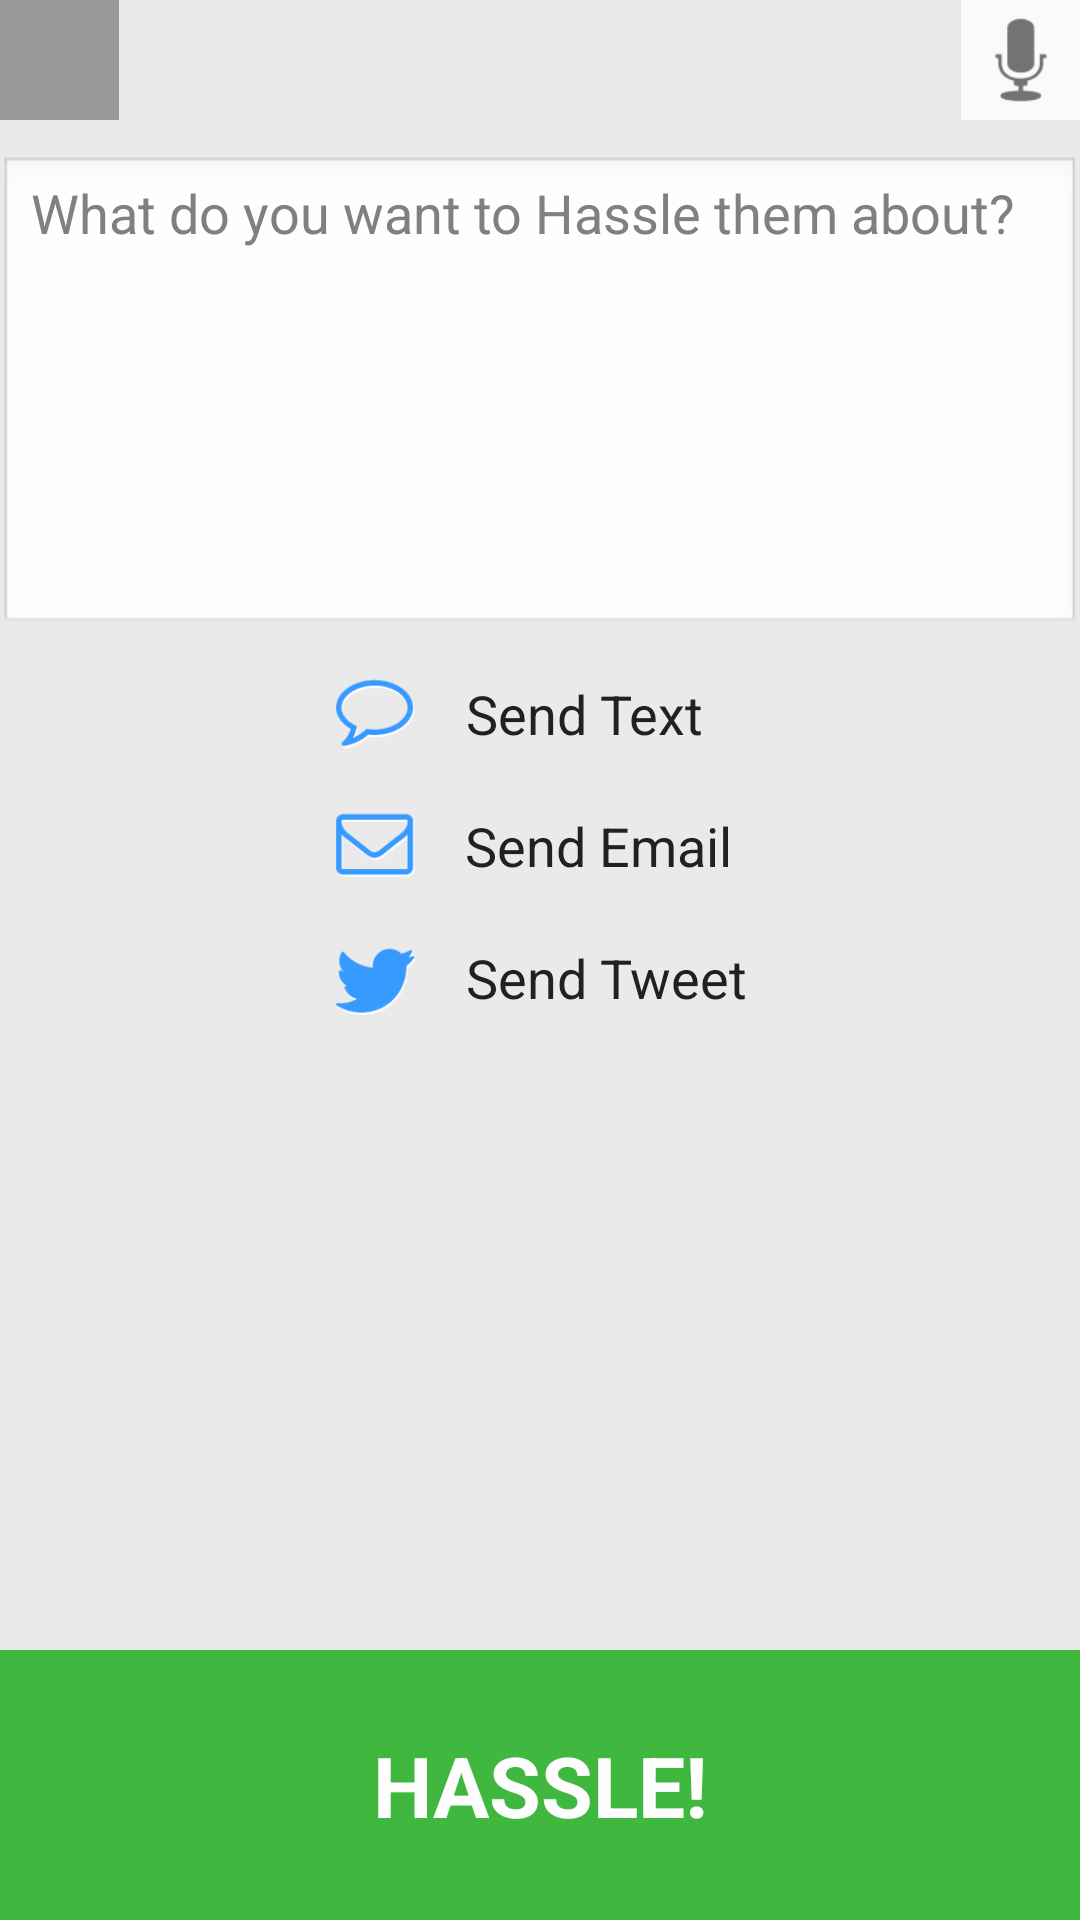

Point at icon controls on the screen. Image size 1080x1920, points as (x,y).
speak now: (1021,60)
